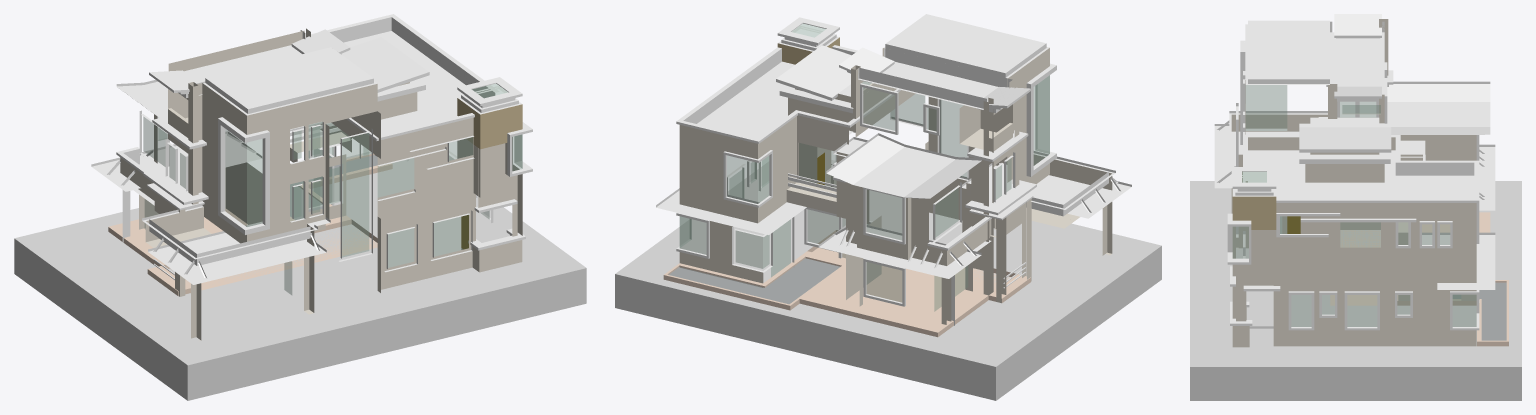
Rendered from building.gltf.
3 views of the same model, side by side, from view 1: azimuth 30°, elevation 25°; view 2: azimuth 150°, elevation 25°; view 3: azimuth 270°, elevation 25° (orthographic). The views are drawn at different scales.
Parts seen in each view (by area): view 1: bungalow_2_TypeB; view 2: bungalow_2_TypeB; view 3: bungalow_2_TypeB.
Part boxes in pixels (x1,y1,x2,y2): bungalow_2_TypeB: (14, 14, 586, 400); bungalow_2_TypeB: (615, 14, 1161, 400); bungalow_2_TypeB: (1190, 14, 1521, 400).
Size of the model in its own units: 25.82 by 15.3 by 19.46.
